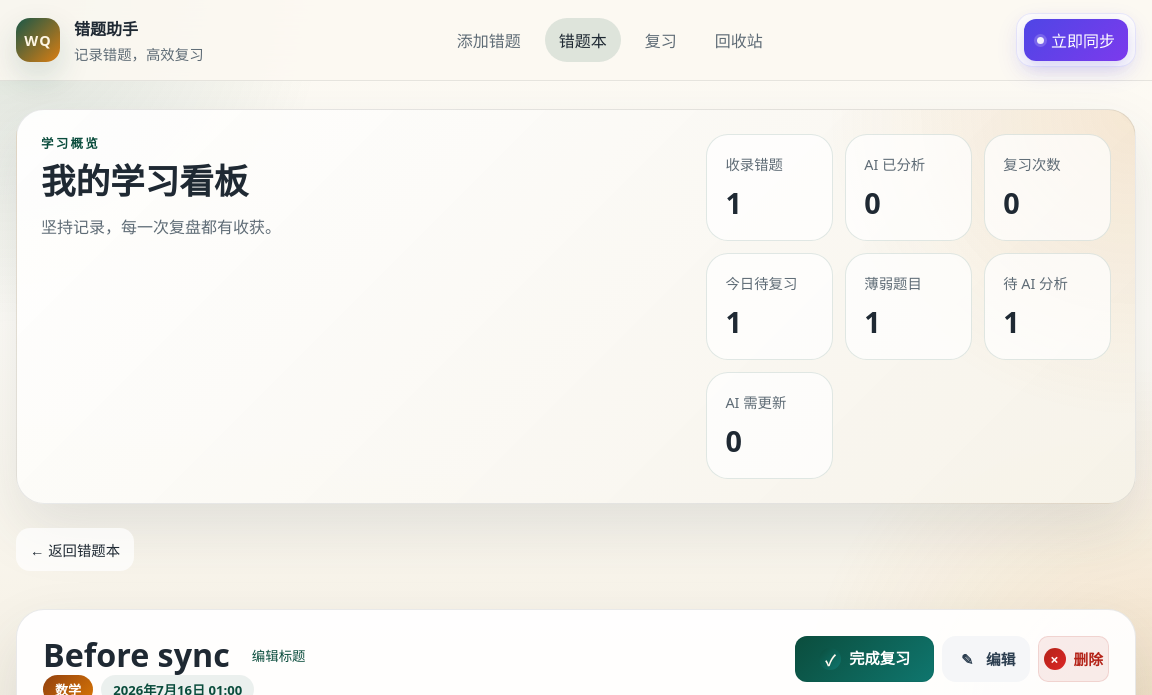
Test: an edit committed while sync is in flight is replayed and uploaded
The width and height of the screenshot is (1152, 695).
Expected: the heading "Before sync" is shown, [43, 636, 230, 675]
Click the button with class "sync-button" at {"x": 1076, "y": 40}, box [1024, 19, 1128, 61]
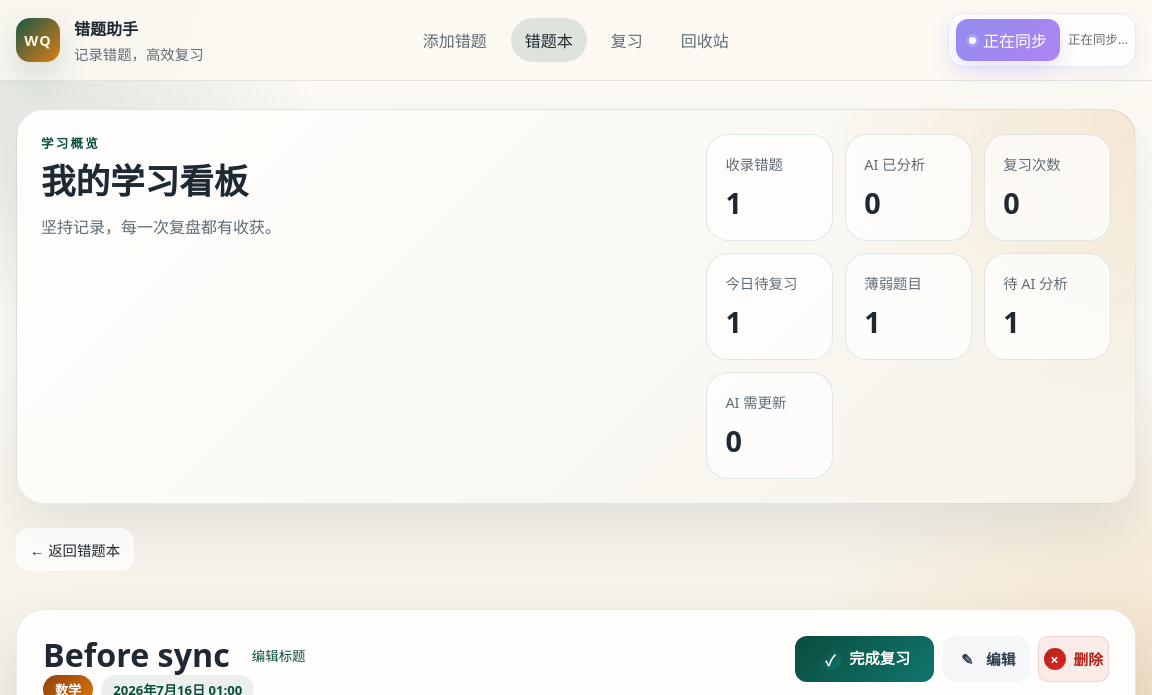
Click the button with class "btn-text--neutral" at {"x": 279, "y": 655}, box [242, 639, 316, 671]
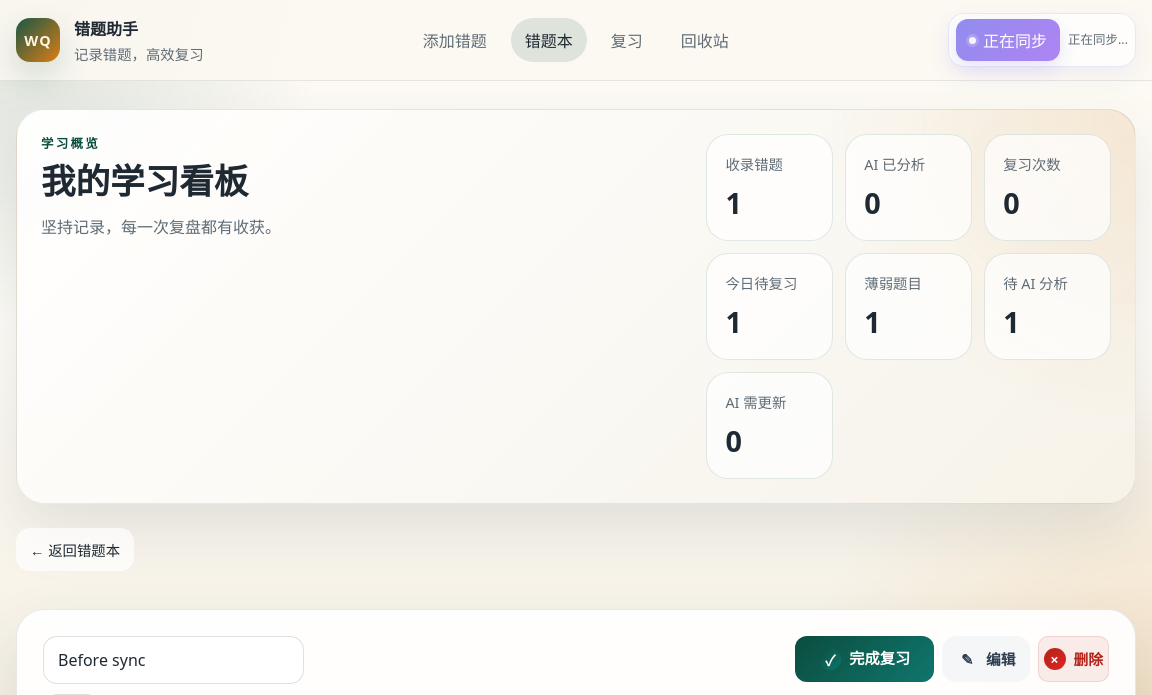
Replace the text in the field with class "detail-title-input" with "Edited during sync" at {"x": 174, "y": 660}, box [43, 636, 304, 684]
(page scrolled)
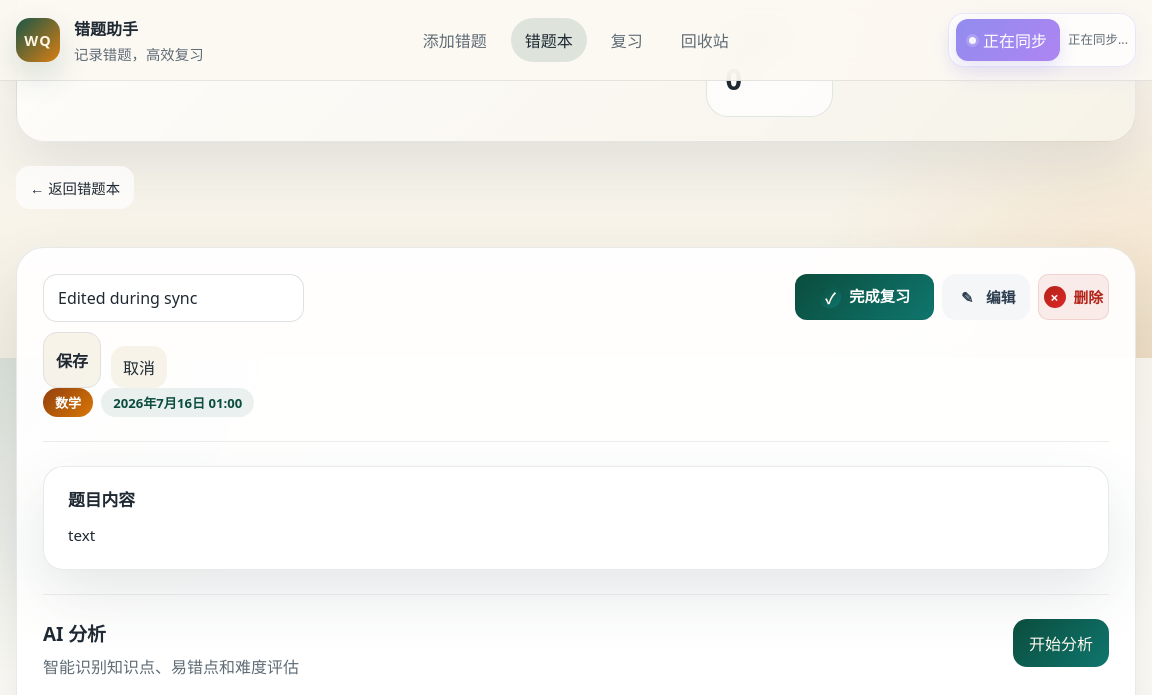
Click the button with class "btn-secondary--compact" at {"x": 72, "y": 360}, box [43, 332, 101, 388]
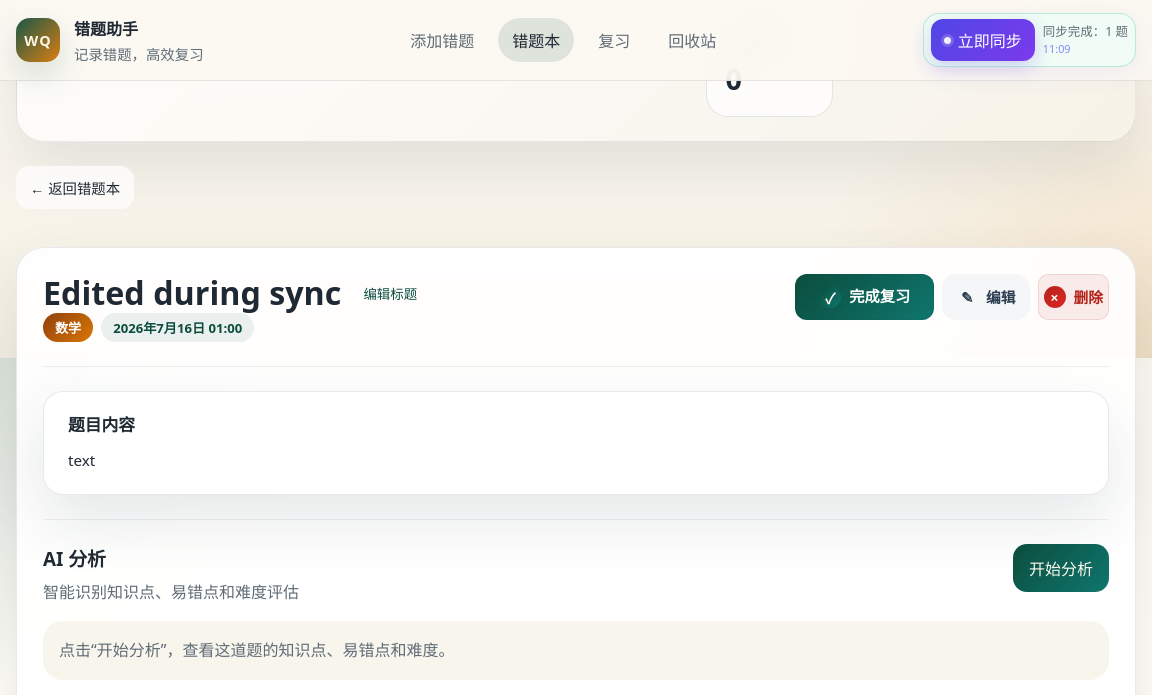
Now the heading "Edited during sync" is shown, box [43, 274, 341, 313]
